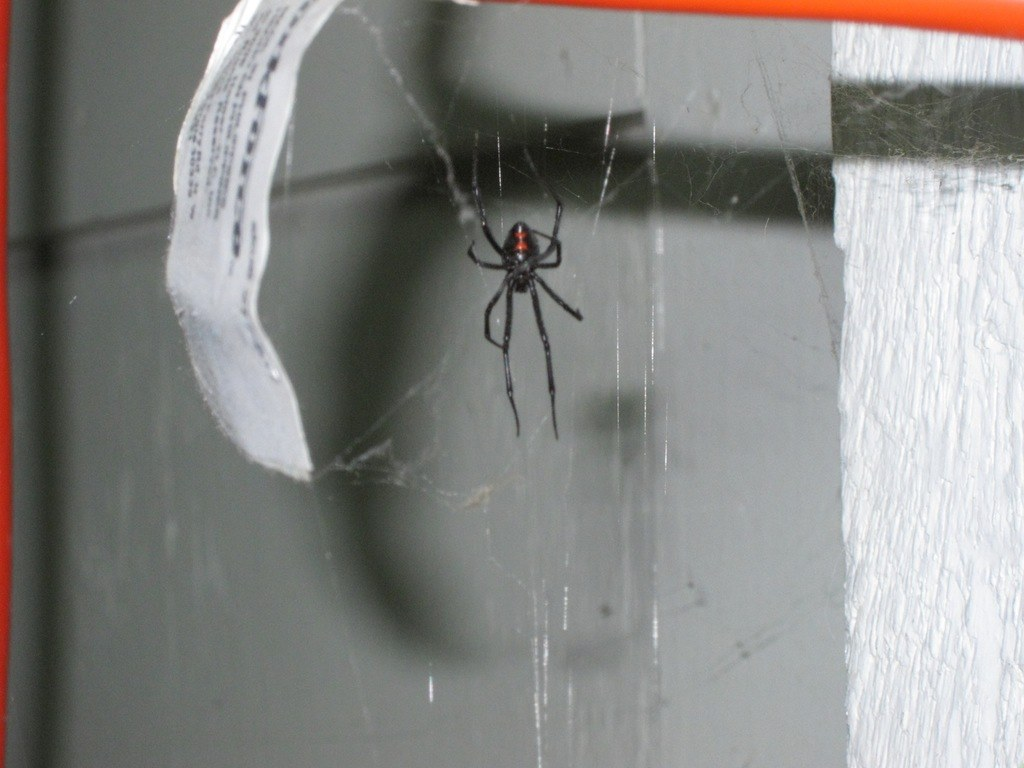insect: (467, 181, 586, 442)
